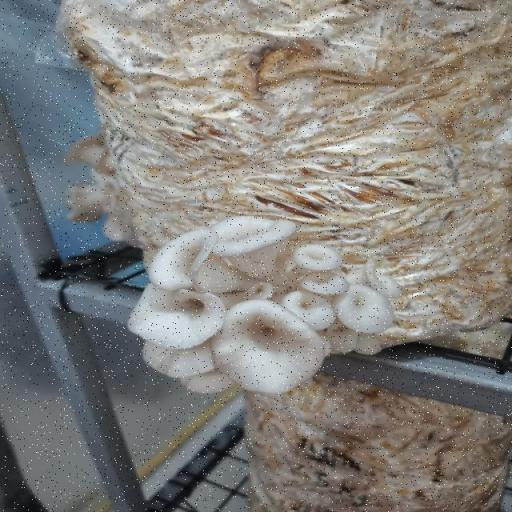White Oyster Mushroom: (119, 207, 406, 418)
